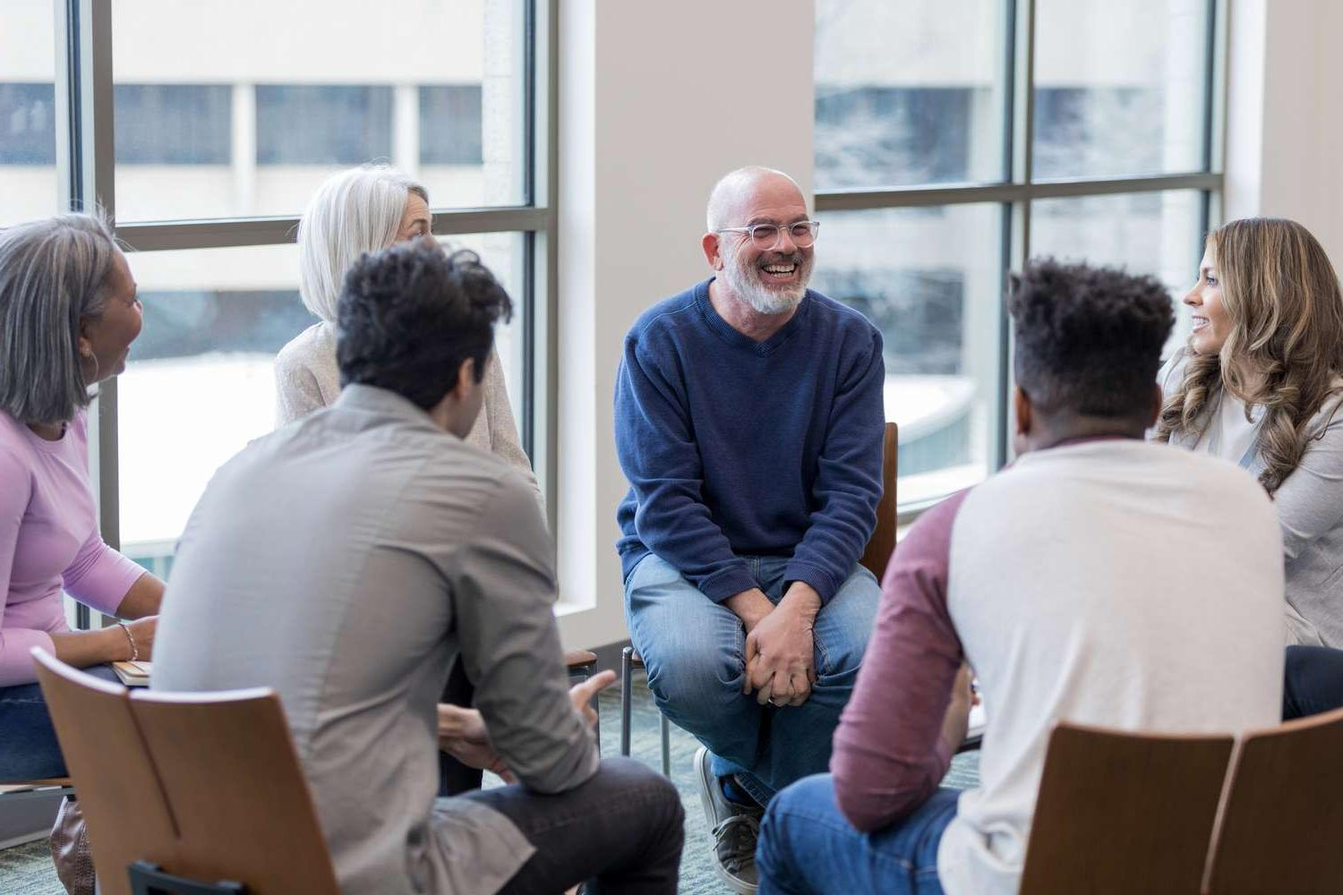jacket: (1148, 345, 1343, 647)
long sleeve shirt: (148, 379, 602, 895), (828, 433, 1289, 895), (0, 401, 151, 692)
sweater: (613, 277, 890, 599)
trousers: (621, 556, 894, 809), (450, 753, 687, 895), (754, 767, 969, 895), (0, 664, 144, 782)
